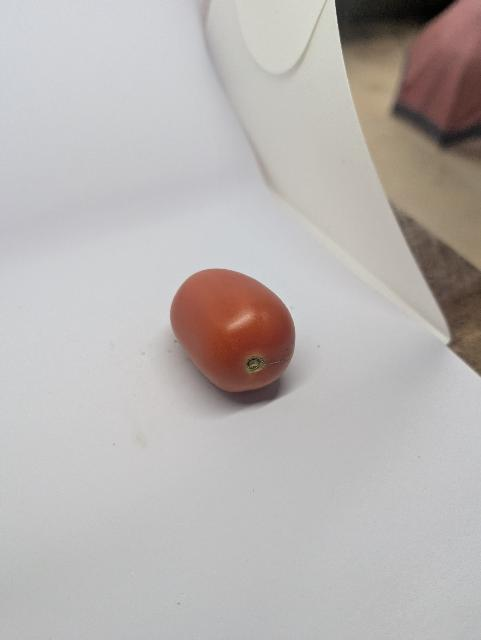red: (165, 260, 318, 398)
